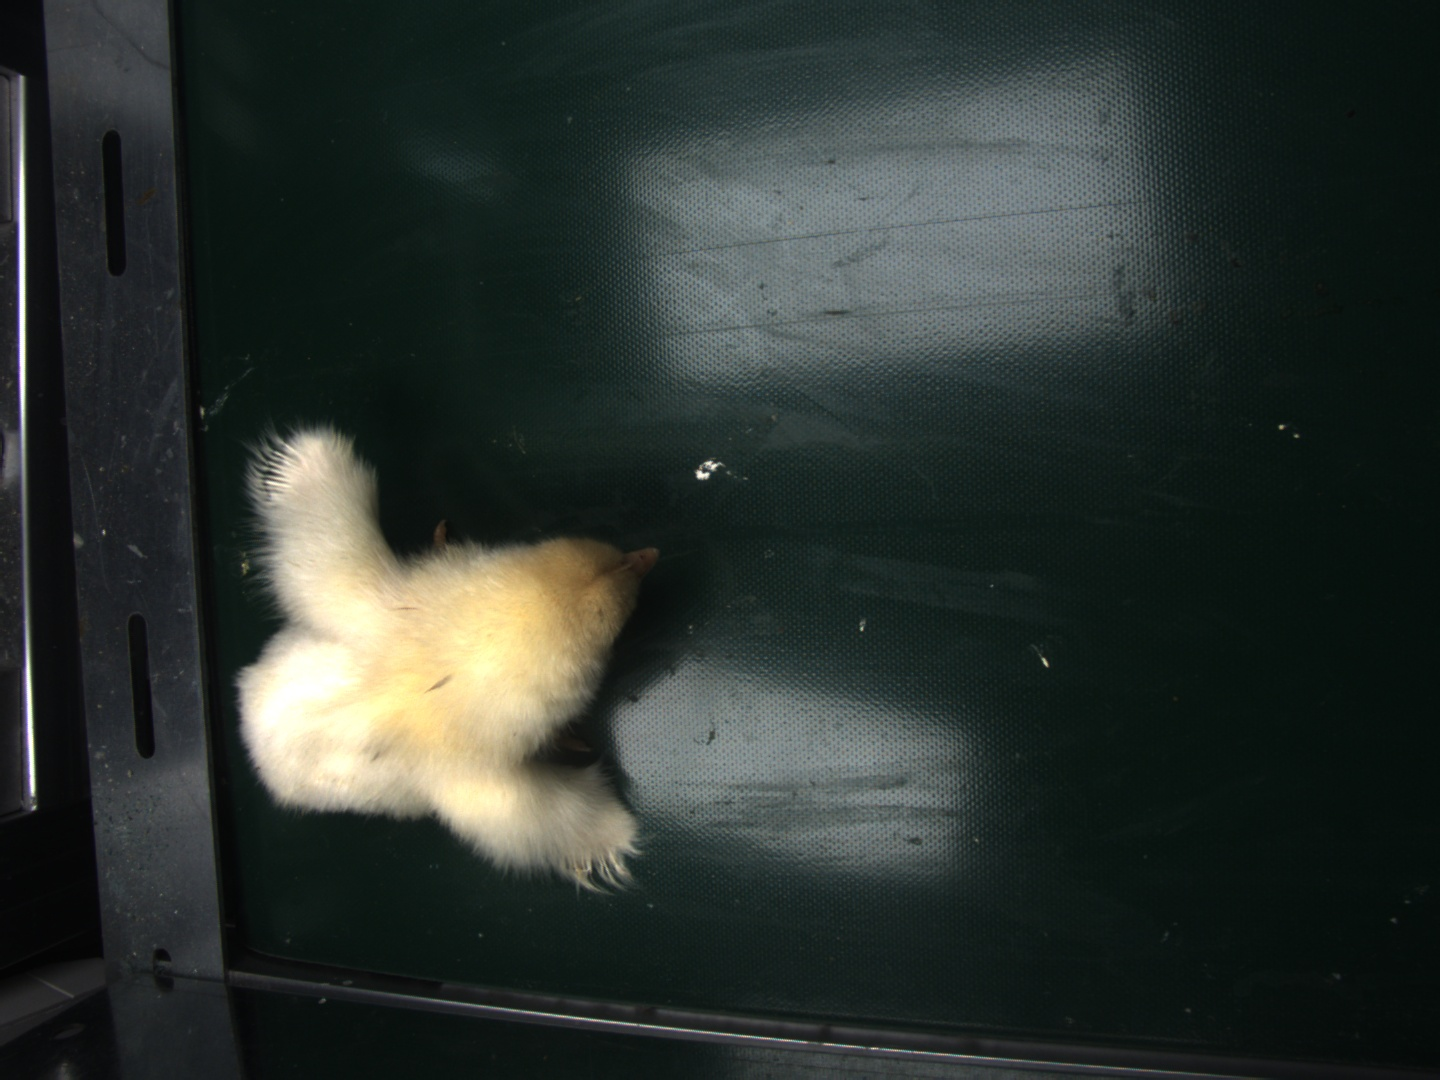male: (259, 442, 304, 501)
